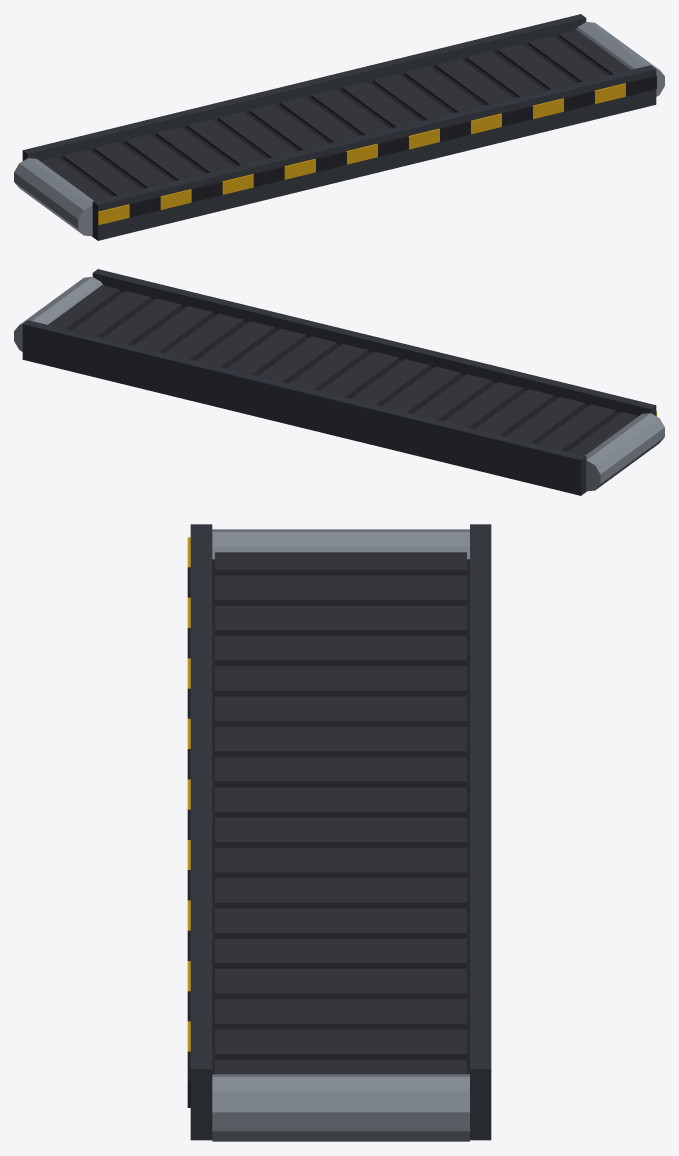
Rendered from conveyor.glb.
The picture shows the model from 3 angles, top to bottom: view 1: azimuth 30°, elevation 25°; view 2: azimuth 150°, elevation 25°; view 3: azimuth 270°, elevation 25°; orthographic projection. The views are drawn at different scales.
Visible parts, largest first — view 1: conveyor; view 2: conveyor; view 3: conveyor.
Part boxes in pixels (bbox=[...]): conveyor: bbox=[14, 14, 664, 240]; conveyor: bbox=[14, 269, 664, 495]; conveyor: bbox=[187, 524, 491, 1141].
Bounding box in the file's own units: 9.46 × 0.5495 × 2.12.
